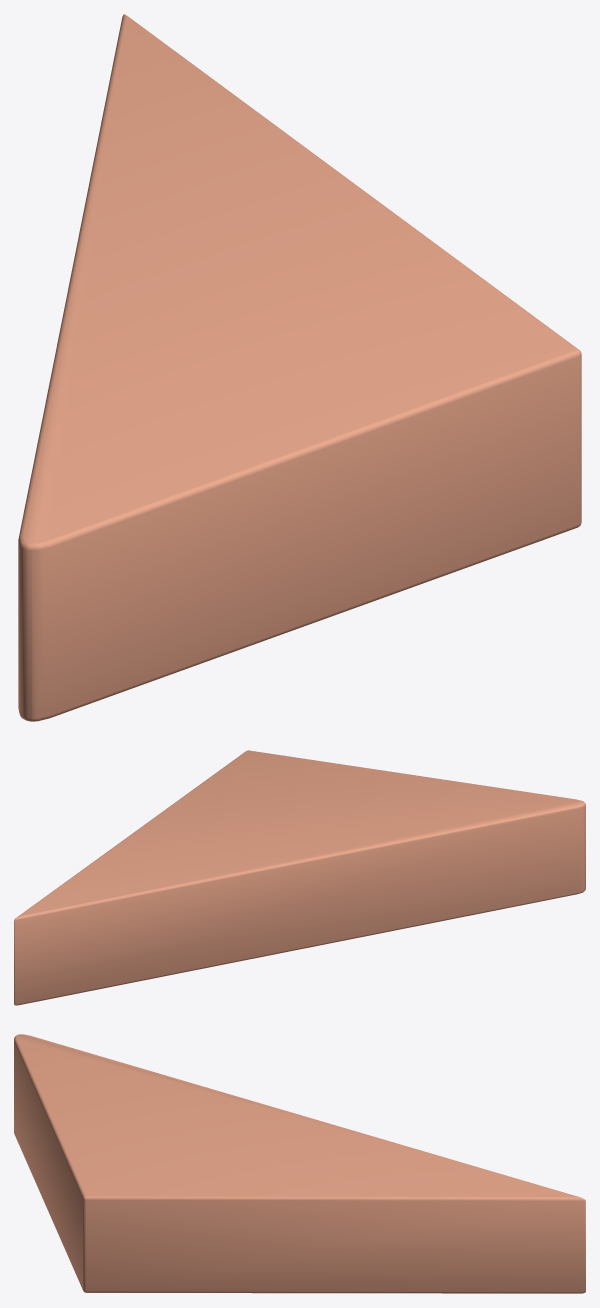
File: island_lv11_1.fbx
3 renders of one model, top to bottom at view 1: azimuth 30°, elevation 25°; view 2: azimuth 150°, elevation 25°; view 3: azimuth 270°, elevation 25°, orthographic. The views are drawn at different scales.
Parts seen in each view (by area): view 1: island_lv11_1; view 2: island_lv11_1; view 3: island_lv11_1.
Part boxes in pixels (<box>): island_lv11_1: <box>18,14,581,721</box>; island_lv11_1: <box>14,750,585,1005</box>; island_lv11_1: <box>14,1034,585,1293</box>.
Size of the model in its own units: 1832 by 500 by 2685.
